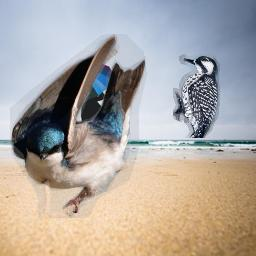Swallow: (10, 34, 147, 218)
Woodpecker: (173, 53, 220, 138)
